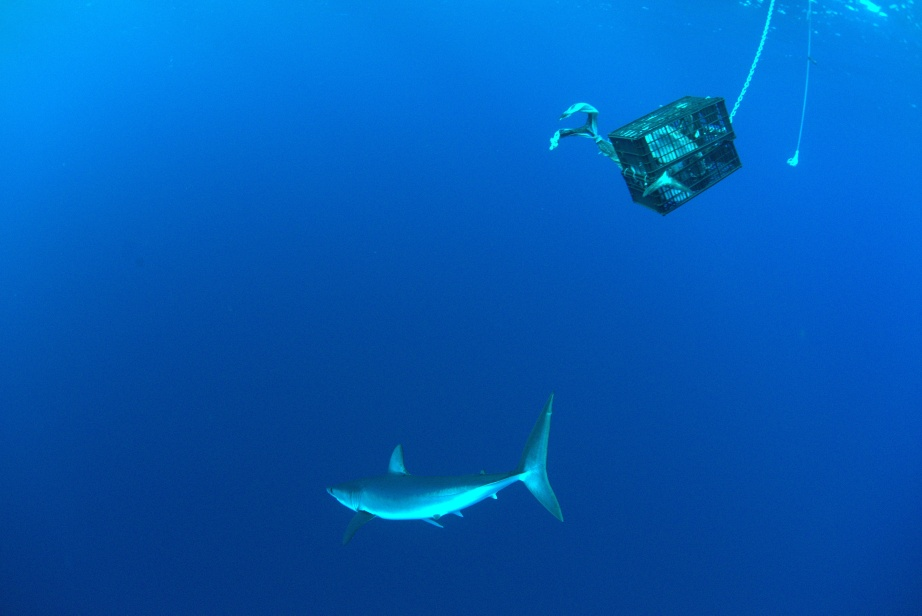Mako: (313, 386, 583, 554)
